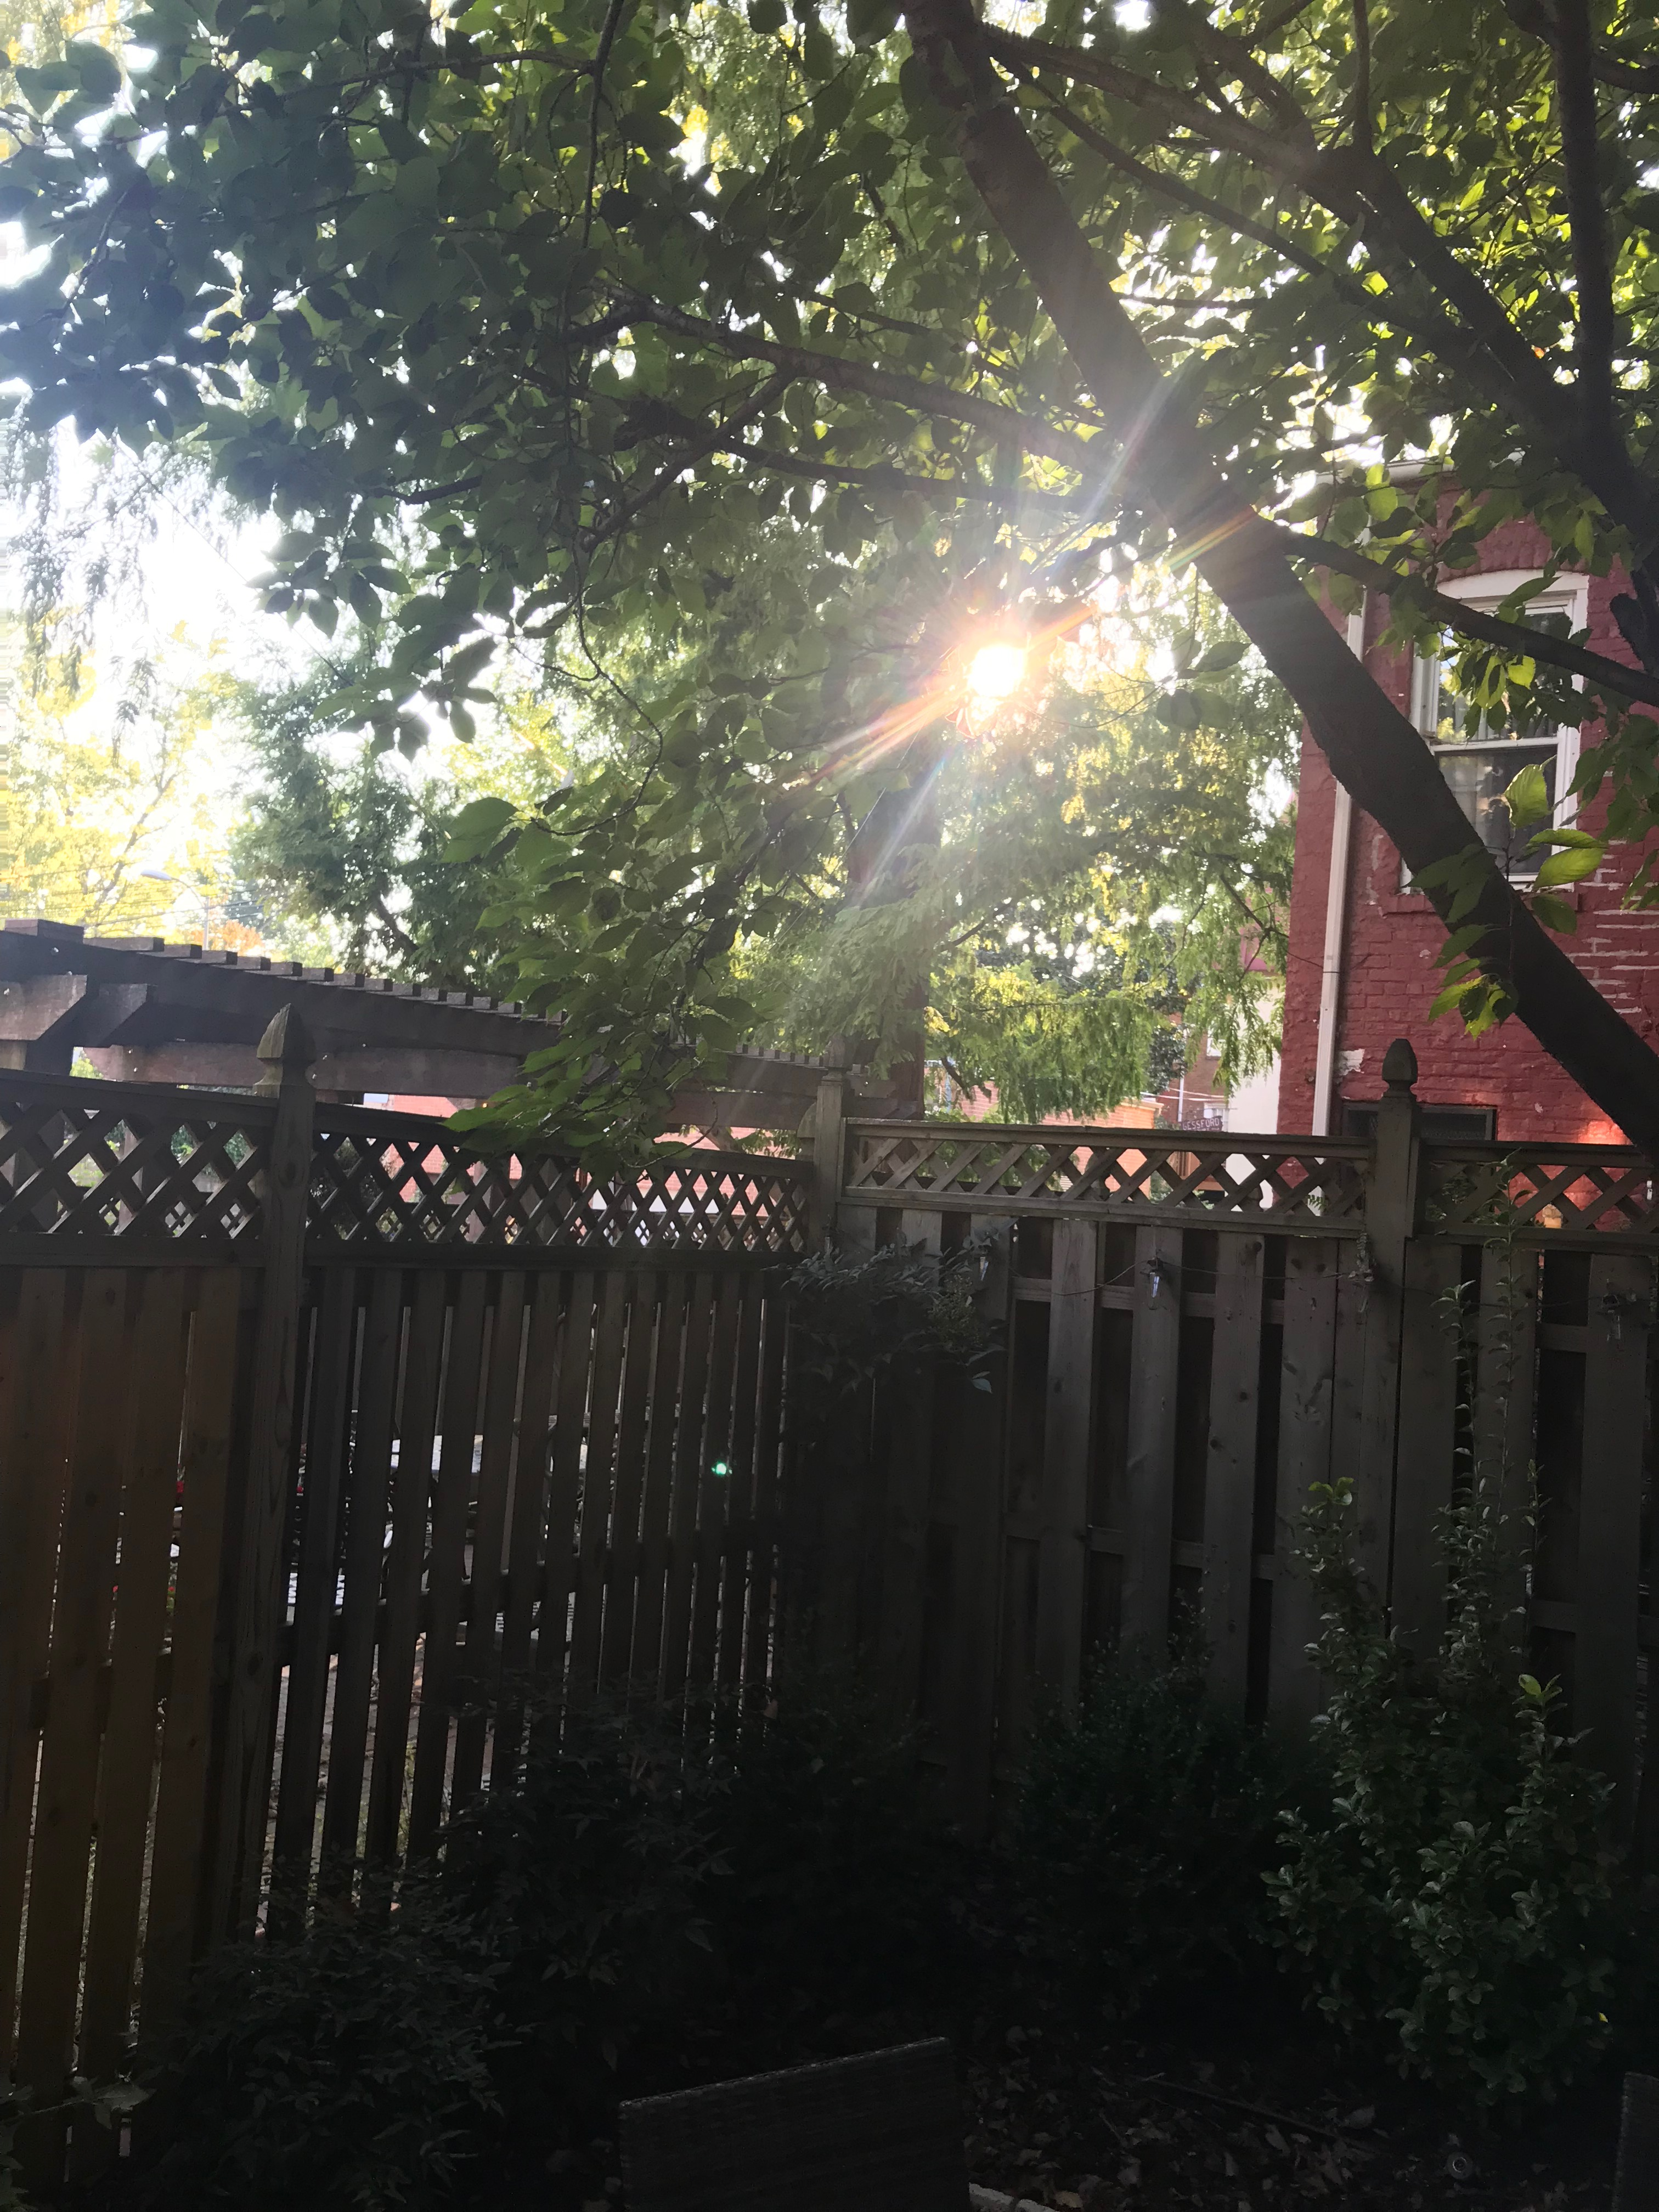flare: (711, 1460, 734, 1479)
